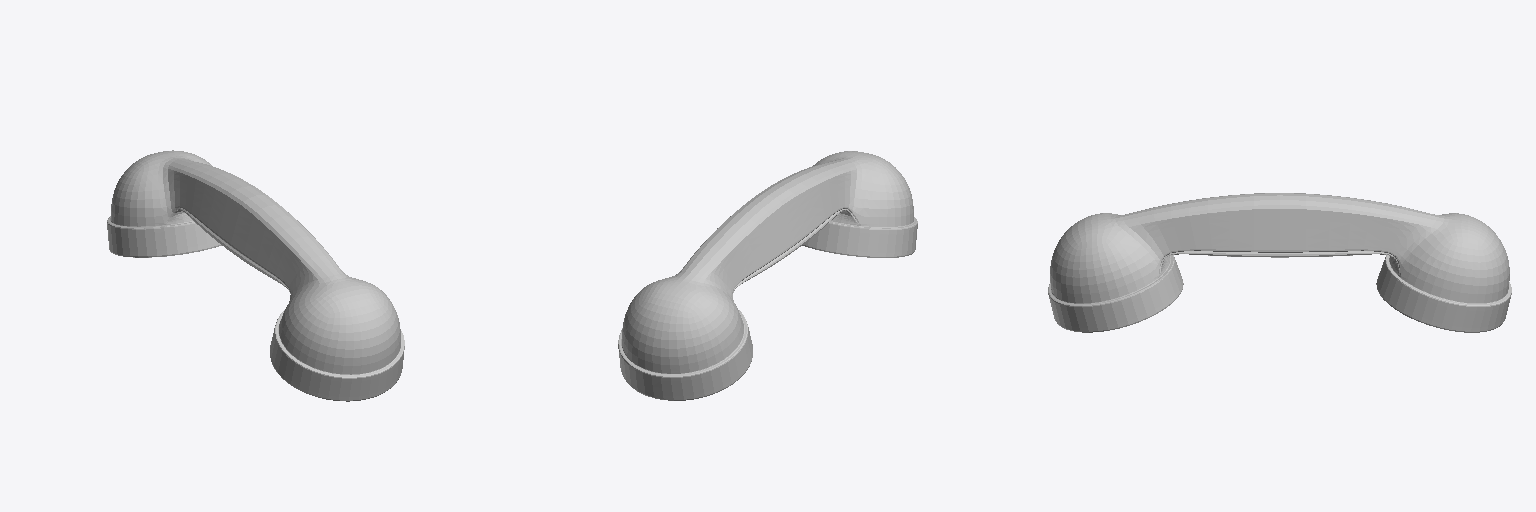
The model's file is Phone.obj.
3 views of the same model, side by side, from view 1: azimuth 30°, elevation 25°; view 2: azimuth 150°, elevation 25°; view 3: azimuth 270°, elevation 25° (orthographic).
Parts seen in each view (by area): view 1: polySurface7 Christmas_Tree23; view 2: polySurface7 Christmas_Tree23; view 3: polySurface7 Christmas_Tree23.
Part boxes in pixels (x1,y1,x2,y2): polySurface7 Christmas_Tree23: (107, 150, 404, 401); polySurface7 Christmas_Tree23: (618, 151, 917, 400); polySurface7 Christmas_Tree23: (1048, 193, 1511, 332).
Bounding box in the file's own units: 0.259 × 0.2555 × 0.8883.